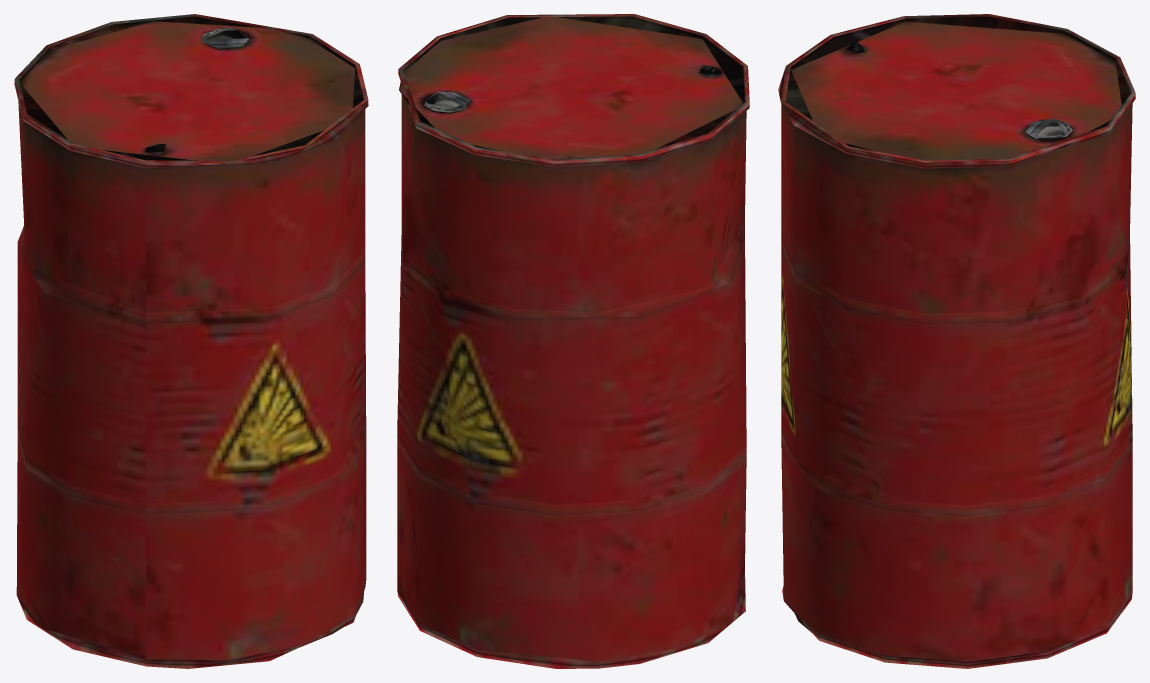
The model's file is barrel.glb.
3 renders of one model, left to right at view 1: azimuth 30°, elevation 25°; view 2: azimuth 150°, elevation 25°; view 3: azimuth 270°, elevation 25°, orthographic.
Parts seen in each view (by area): view 1: barrel; view 2: barrel; view 3: barrel.
Part boxes in pixels (left/top/right/bottom): barrel: left=14, top=14, right=368, bottom=668; barrel: left=397, top=14, right=749, bottom=668; barrel: left=778, top=14, right=1135, bottom=668.
Size of the model in its own units: 0.5522 by 0.8789 by 0.5603.
Materials: 1 (1 with a texture image).
